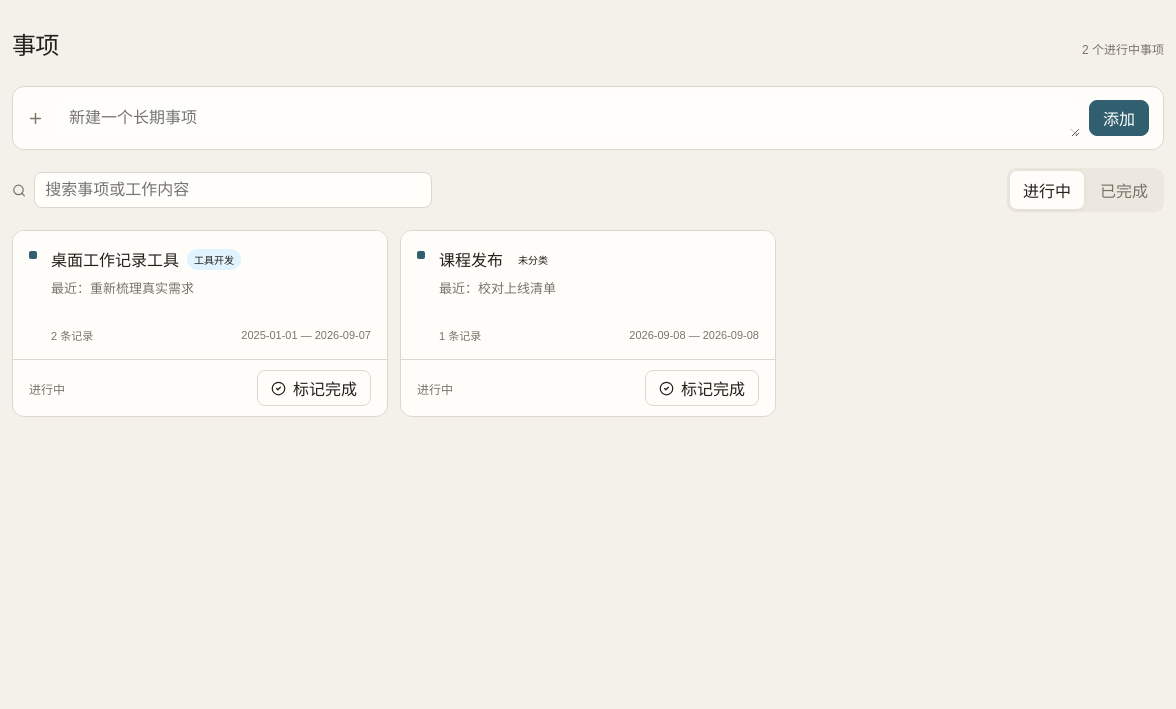
Test: long-running work items › keeps one card per item and opens all of its records across dates
Check: the text "2 条记录" is shown, box [51,327,93,343]
Click the button with aria-label "查看进展": (115, 260) [13,231,387,359]
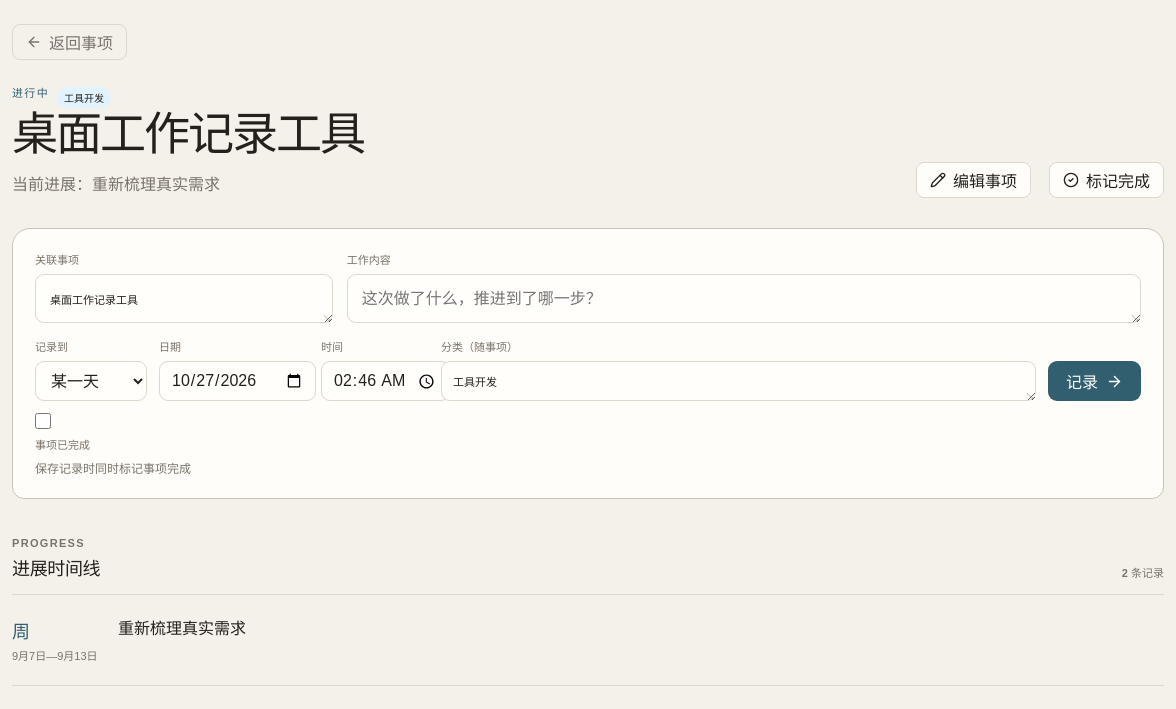
Check: the text "重新梳理真实需求" is shown, box [118,620,246,637]
Check: the button "校对上线清单" is gone
